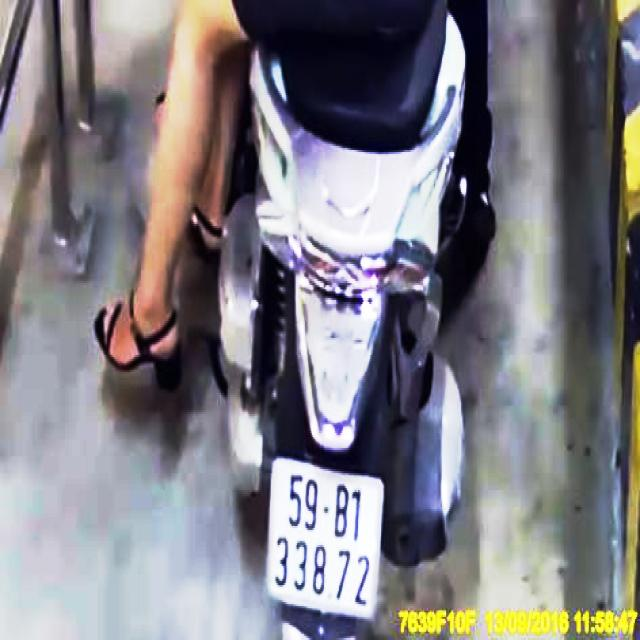license_plate: (266, 458, 384, 618)
